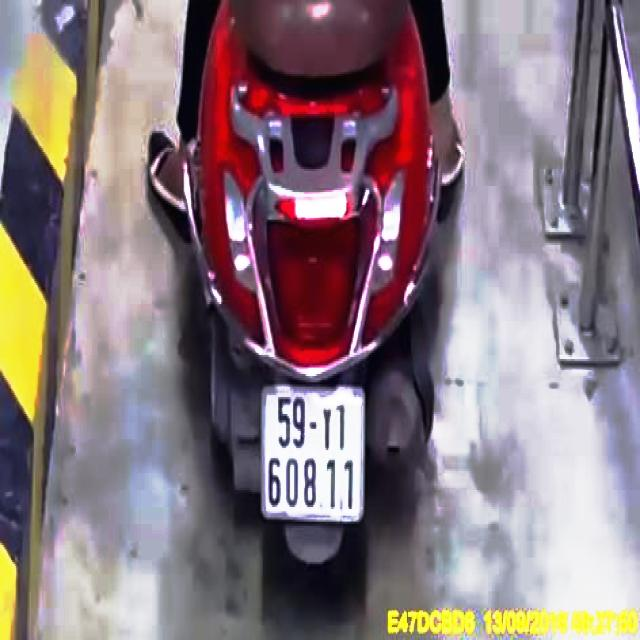license_plate: (262, 391, 364, 517)
